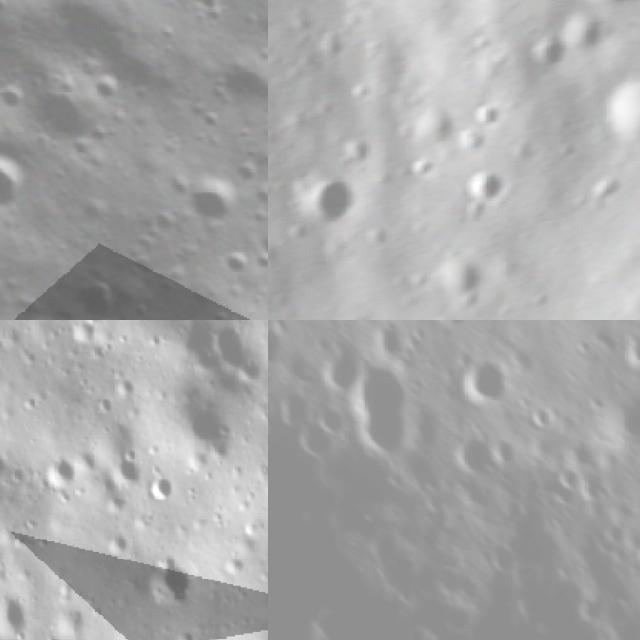crater: (346, 360, 424, 454), (292, 148, 375, 232), (172, 162, 246, 236), (586, 69, 640, 162), (424, 236, 497, 304), (204, 320, 268, 397), (449, 149, 518, 214), (138, 550, 203, 614), (453, 354, 521, 404), (0, 136, 39, 213), (314, 333, 366, 390), (521, 23, 573, 77), (451, 424, 499, 477), (338, 121, 387, 170), (0, 588, 36, 640), (39, 450, 81, 492), (216, 242, 259, 283), (107, 450, 147, 492), (0, 73, 39, 116), (268, 320, 297, 377), (88, 66, 128, 106), (143, 472, 178, 506), (546, 466, 584, 489), (103, 526, 132, 556), (67, 320, 96, 349), (194, 0, 238, 19), (113, 371, 137, 405), (47, 305, 93, 320), (578, 0, 629, 13), (0, 443, 10, 481)
